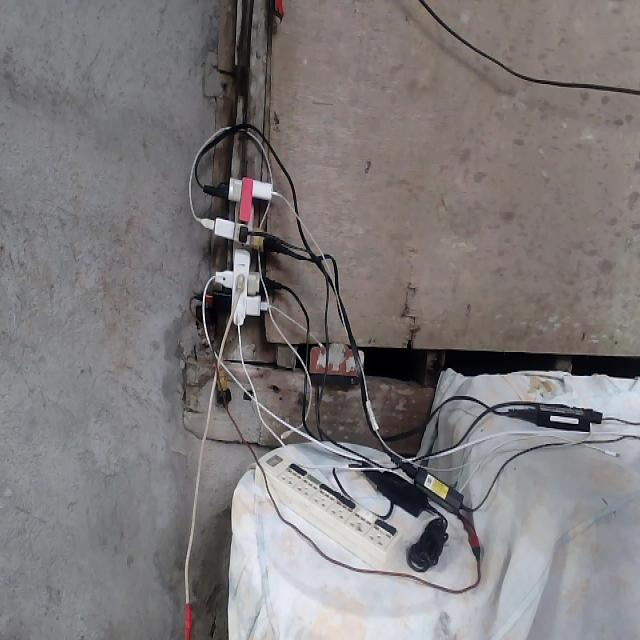-: (194, 174, 287, 326)
